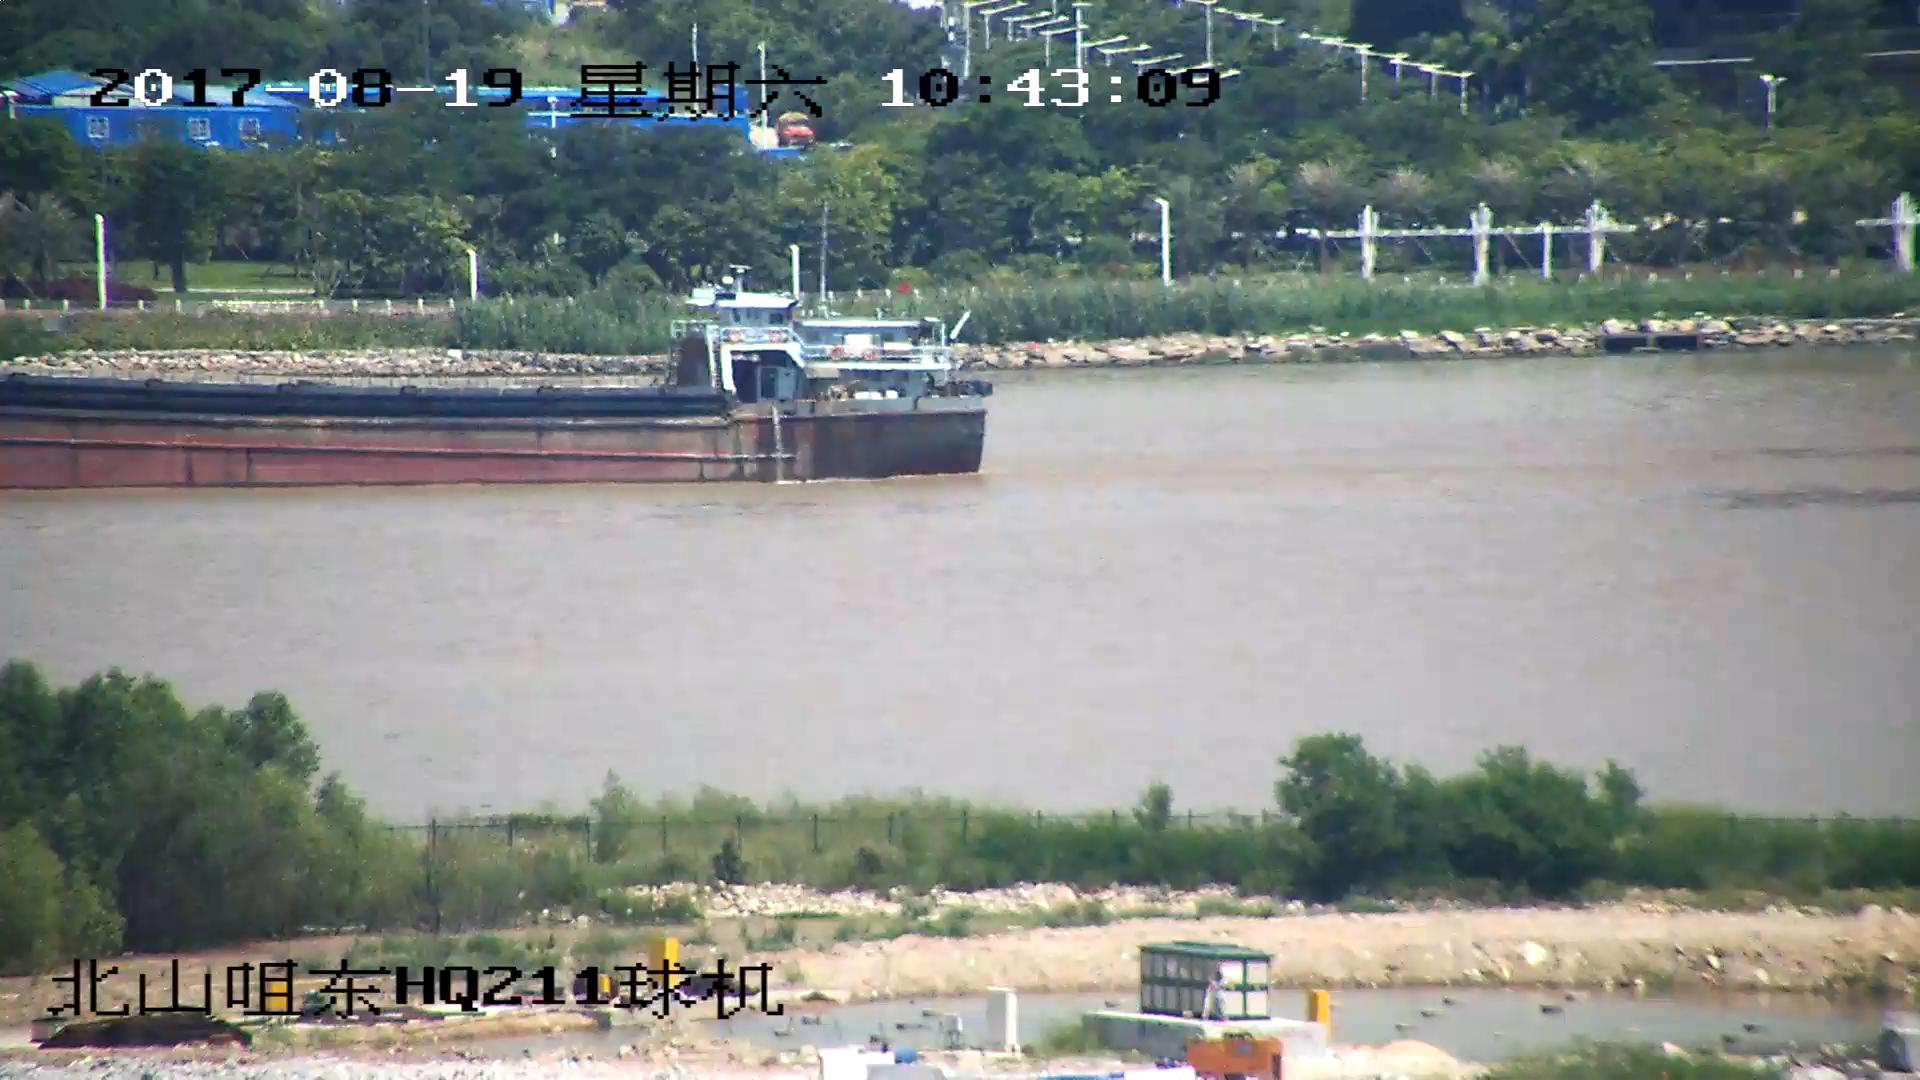bulk cargo carrier: (1, 269, 987, 485)
